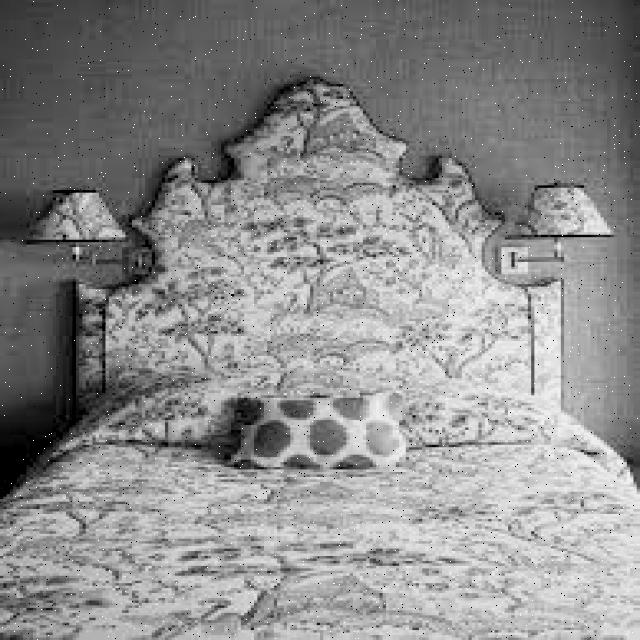bed: (3, 367, 640, 640)
